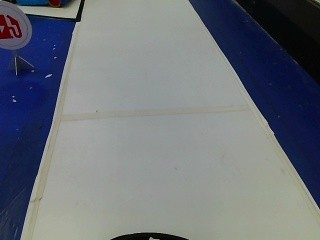battery: (0, 0, 33, 51)
